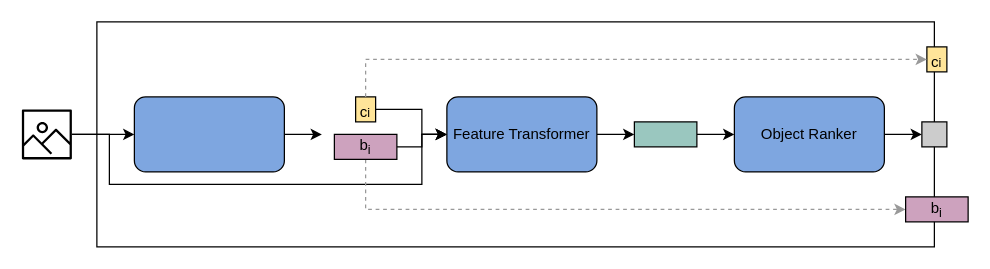
Some shapes in this 990 by 269 pixel diagram are drawn without their labels. Here are the shapes that lost their labels. From the top down, the centre of each, then its label:
point 208,134: Object Detector
point 665,134: x i
point 934,134: s i
